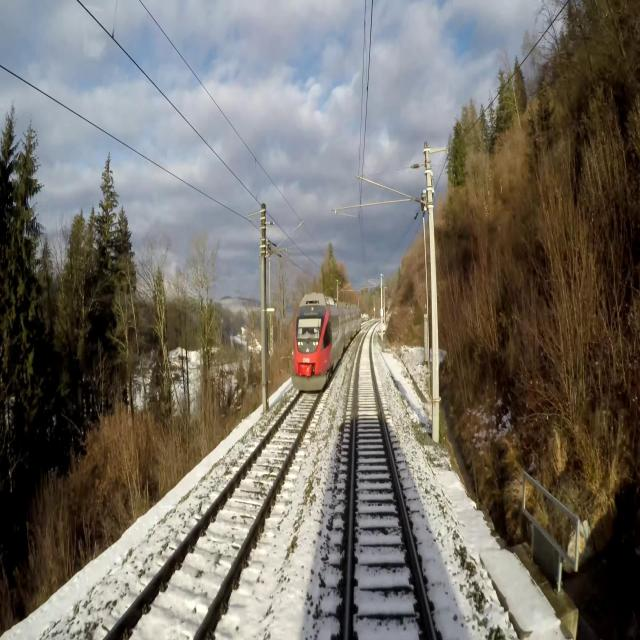rail-track: (350, 329, 432, 639)
